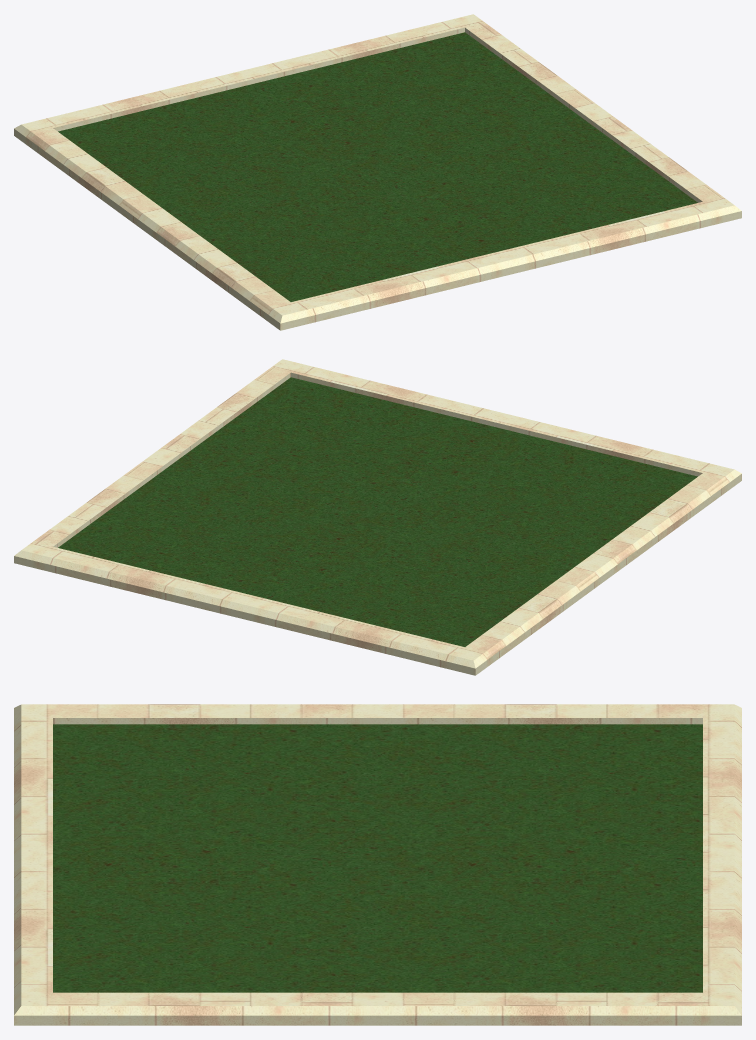
File: SM_garden_8x8.glb
3 renders of one model, top to bottom at view 1: azimuth 30°, elevation 25°; view 2: azimuth 150°, elevation 25°; view 3: azimuth 270°, elevation 25°, orthographic. The views are drawn at different scales.
Visible parts, largest first — view 1: SM_garden_8x8; view 2: SM_garden_8x8; view 3: SM_garden_8x8.
Part boxes in pixels (<box>): SM_garden_8x8: <box>14,14,741,330</box>; SM_garden_8x8: <box>14,359,741,675</box>; SM_garden_8x8: <box>14,704,741,1025</box>.
Size of the model in its own units: 8 by 0.2 by 8.
2 materials, 2 textured.
